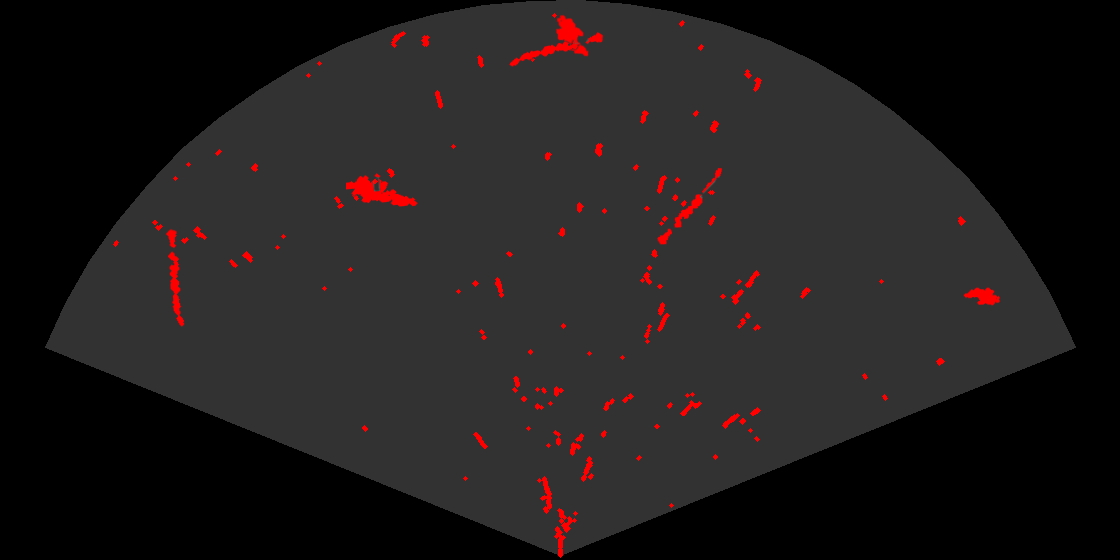AUV: (554, 13, 590, 58), (962, 286, 1002, 307)
chain: (656, 166, 724, 246), (508, 31, 606, 68), (164, 228, 186, 328)
frogman: (346, 172, 418, 208)
